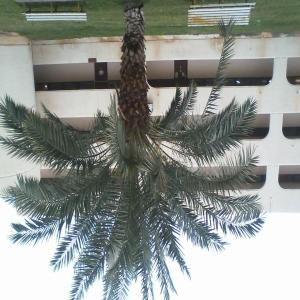palm tree: (0, 2, 267, 299)
